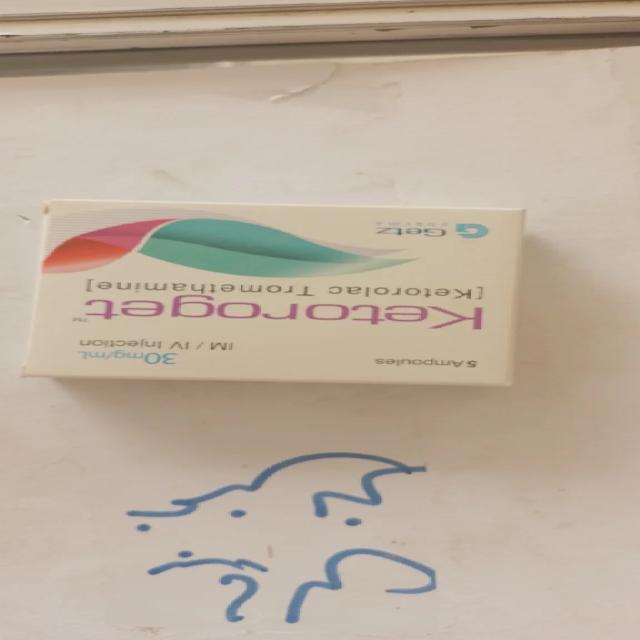drug-name: (78, 297, 487, 333)
